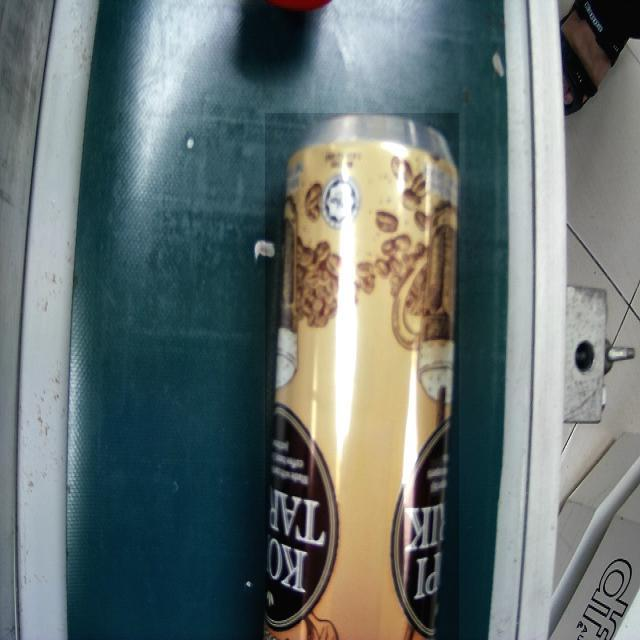can: (265, 113, 459, 640)
